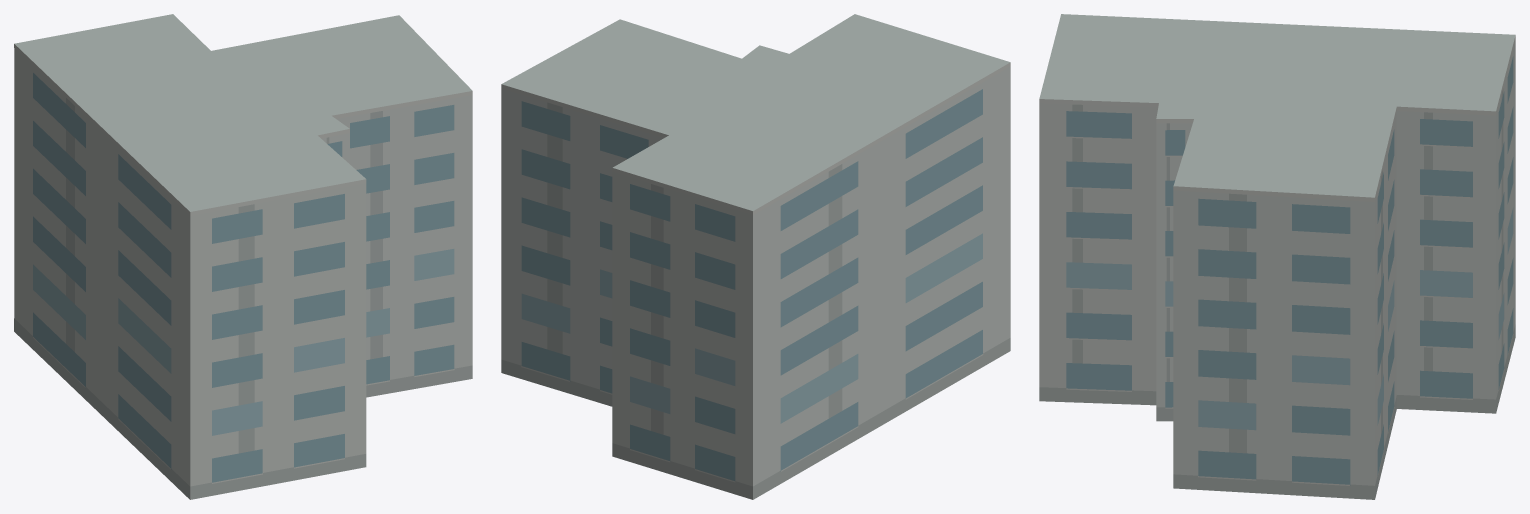
The model's file is survey-upis-32951307.glb.
3 views of the same model, side by side, from view 1: azimuth 30°, elevation 25°; view 2: azimuth 150°, elevation 25°; view 3: azimuth 270°, elevation 25° (orthographic). The views are drawn at different scales.
Visible parts, largest first — view 1: survey-upis-32951307.tmp; view 2: survey-upis-32951307.tmp; view 3: survey-upis-32951307.tmp.
Part boxes in pixels (<box>): survey-upis-32951307.tmp: <box>14,14,472,499</box>; survey-upis-32951307.tmp: <box>501,14,1010,499</box>; survey-upis-32951307.tmp: <box>1039,14,1515,499</box>.
Bounding box in the file's own units: 21.9 × 16.8 × 24.01.
